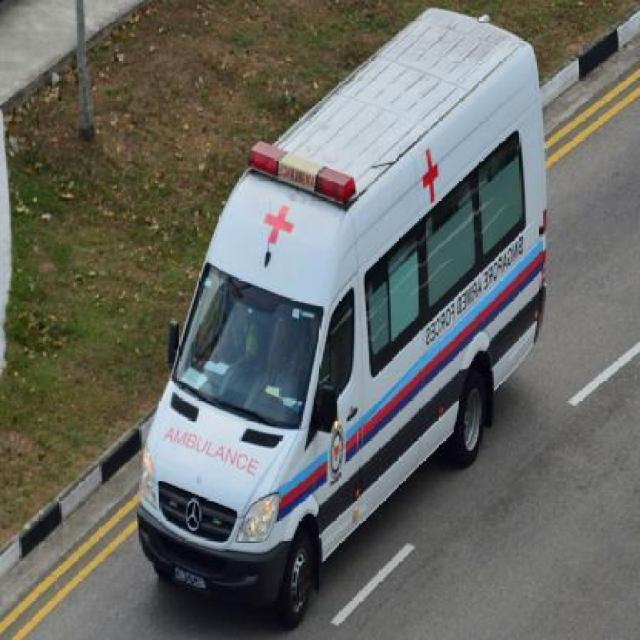emergency: (135, 6, 550, 626)
